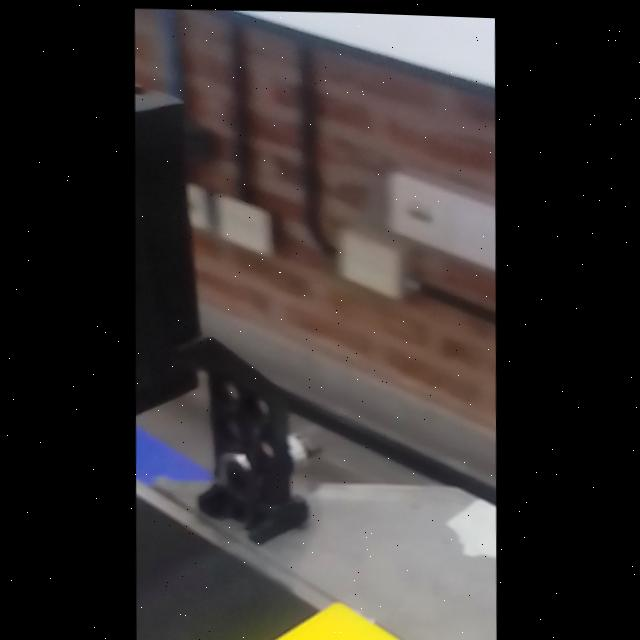yellowBox: (213, 578, 497, 640)
